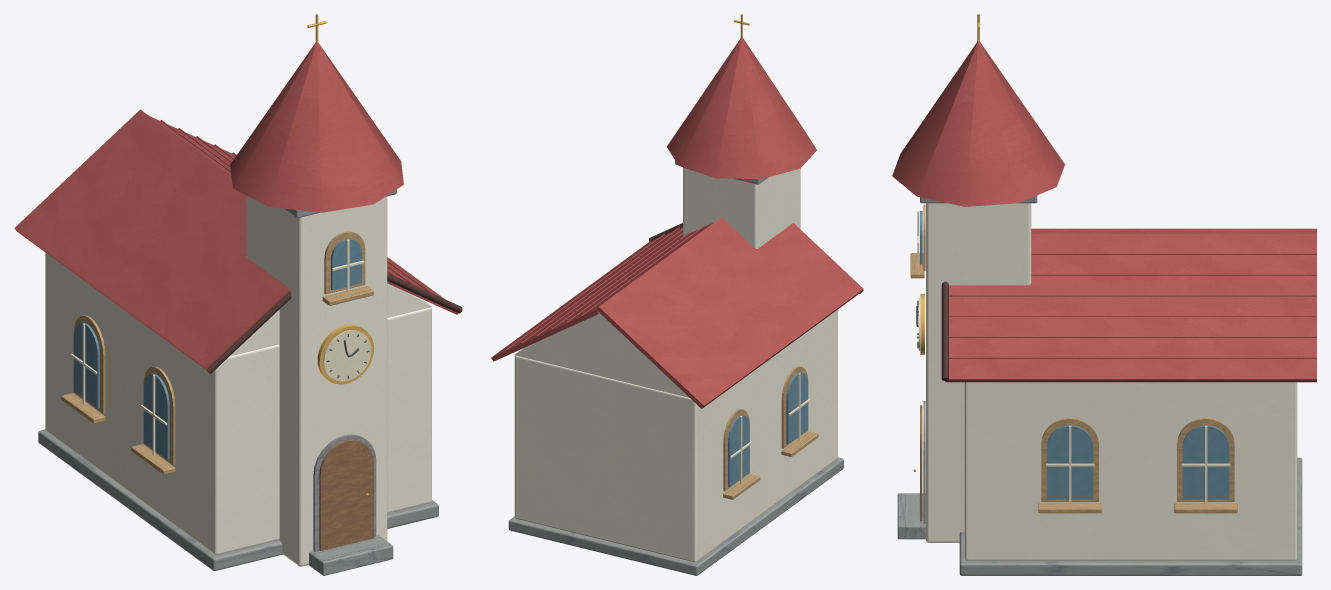
File: church.glb
The picture shows the model from 3 angles, left to right: view 1: azimuth 30°, elevation 25°; view 2: azimuth 150°, elevation 25°; view 3: azimuth 270°, elevation 25°; orthographic projection. The views are drawn at different scales.
Parts seen in each view (by area): view 1: church; view 2: church; view 3: church.
Part boxes in pixels (box(x1,y1,x2,y2)): church: box(14, 14, 462, 575); church: box(491, 14, 863, 575); church: box(892, 14, 1316, 575).
Size of the model in its own units: 5.19 by 10.12 by 7.66.
Materials: 3 (3 with a texture image).
